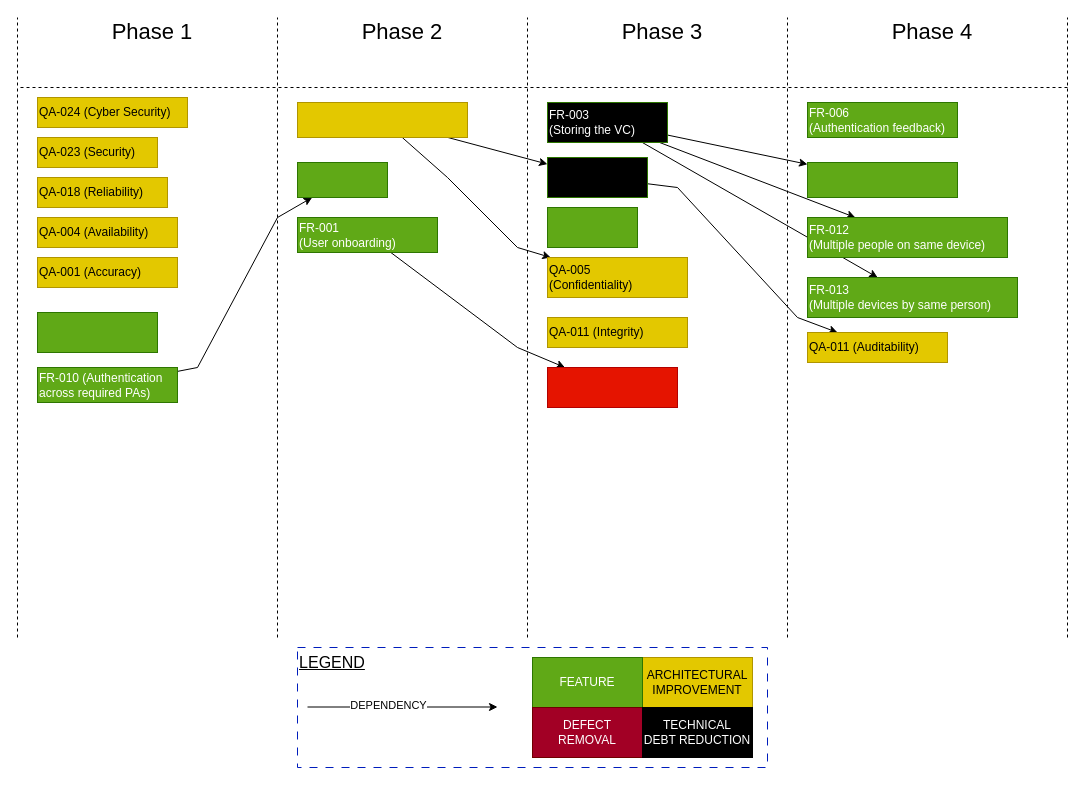
Image size: 1086x785. Some labels were removed from this diagram. Here are the shapes that lost their labels. From the top down, the centre of each, then its label:
At (x=382, y=120): "FR-009 (Storing public key)".
At (x=342, y=180): "FR-002 (Validation)".
At (x=597, y=177): "FR-005 (Authentication)".
At (x=882, y=180): "FR-011 (Access to personal data)".
At (x=592, y=227): "FR-004 (Multiple VCs)".
At (x=97, y=332): "FR-008 (AI model)".
At (x=612, y=387): "FR-007 (Language support)".
